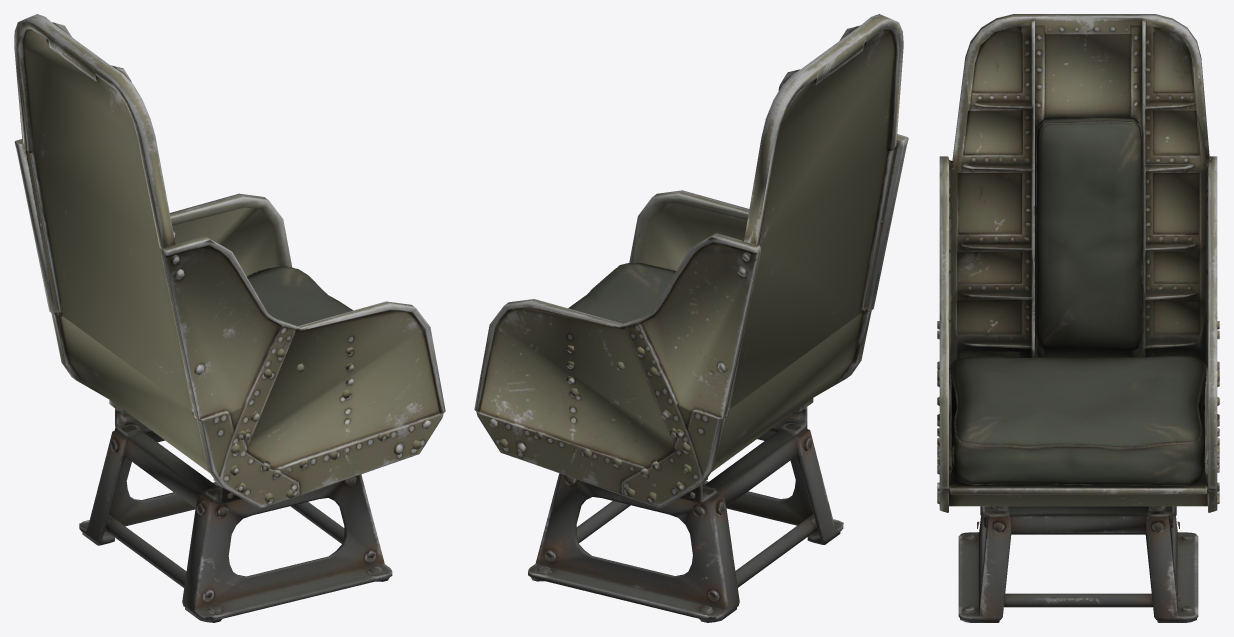
File: ck_seat_remesh.glb
3 renders of one model, left to right at view 1: azimuth 30°, elevation 25°; view 2: azimuth 150°, elevation 25°; view 3: azimuth 270°, elevation 25°, orthographic. The views are drawn at different scales.
Visible parts, largest first — view 1: tripo_node_18ffb0ef-74bb-4ede-8d25-490f9; view 2: tripo_node_18ffb0ef-74bb-4ede-8d25-490f9; view 3: tripo_node_18ffb0ef-74bb-4ede-8d25-490f9.
Boxes of the visible parts, x1,y1,x2,y2 form: tripo_node_18ffb0ef-74bb-4ede-8d25-490f9: (14,14,445,622); tripo_node_18ffb0ef-74bb-4ede-8d25-490f9: (474,14,908,622); tripo_node_18ffb0ef-74bb-4ede-8d25-490f9: (937,14,1219,622).
Size of the model in its own units: 0.5714 by 1 by 0.5147.
Materials: 1 (1 with a texture image).
